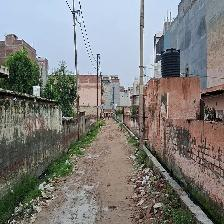Drain: (2, 117, 103, 223)
Road: (14, 116, 184, 223)
